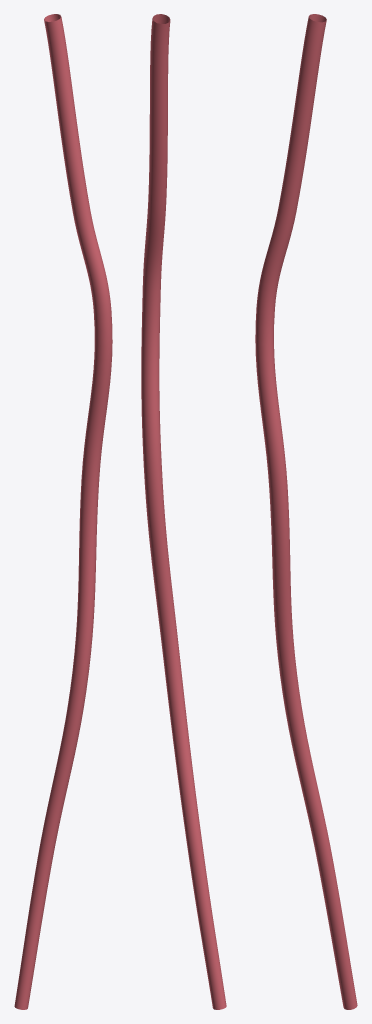
3 views of the same model, side by side, from view 1: azimuth 90°, elevation 25°; view 2: azimuth 210°, elevation 25°; view 3: azimuth 270°, elevation 25° (orthographic). The views are drawn at different scales.
Parts seen in each view (by area): view 1: ZA_77990cae93563a65; view 2: ZA_77990cae93563a65; view 3: ZA_77990cae93563a65.
Part boxes in pixels (x1=…): ZA_77990cae93563a65: x1=14, y1=14, x2=112, y2=1009; ZA_77990cae93563a65: x1=141, y1=14, x2=226, y2=1009; ZA_77990cae93563a65: x1=255, y1=14, x2=357, y2=1009.
Size of the model in its own units: 0.00931 by 0.1567 by 0.0143.
